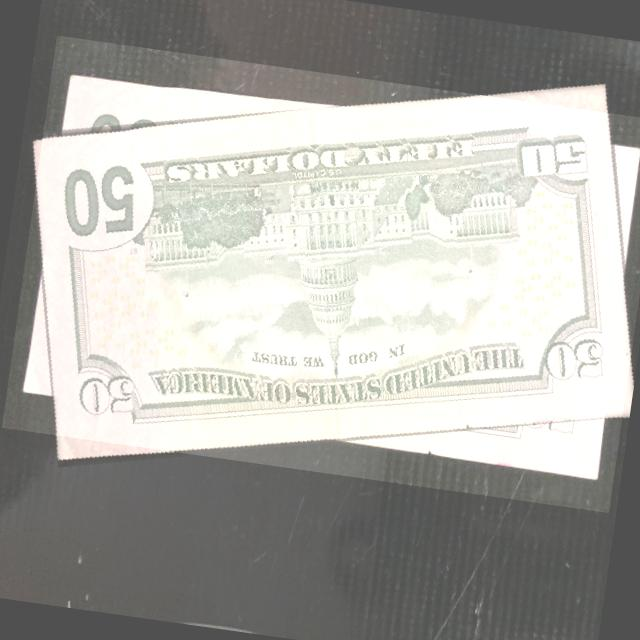fifty: (2, 36, 640, 513)
